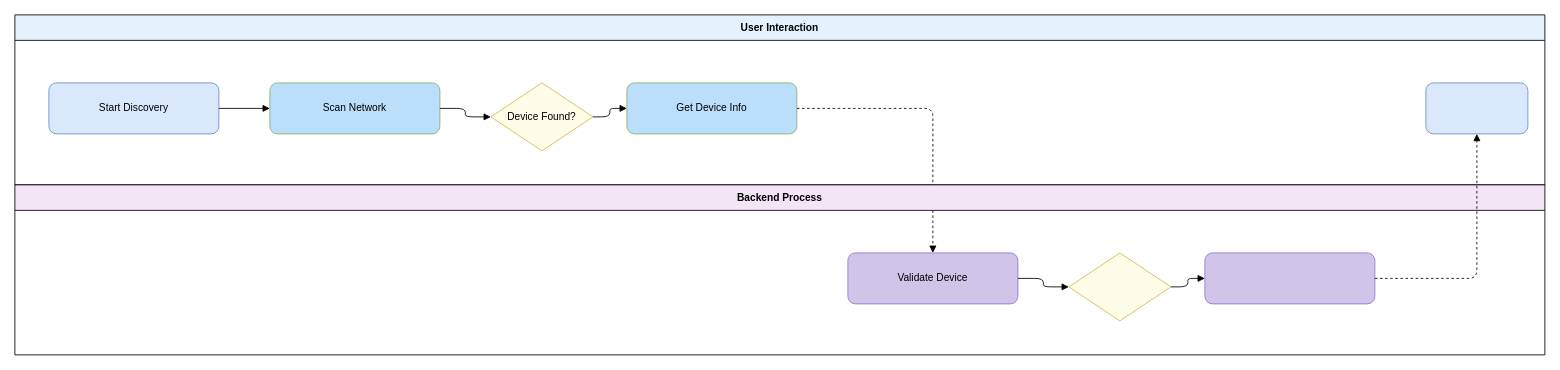
Some shapes in this 1560 by 370 pixel diagram are drawn without their labels. The shapes that lost their labels are listed below. From the top down, each one's centre as x and y in pixels, then its label:
At [1476,108]: "End".
At [1119,286]: "Device Valid?".
At [1289,278]: "Register Device".
